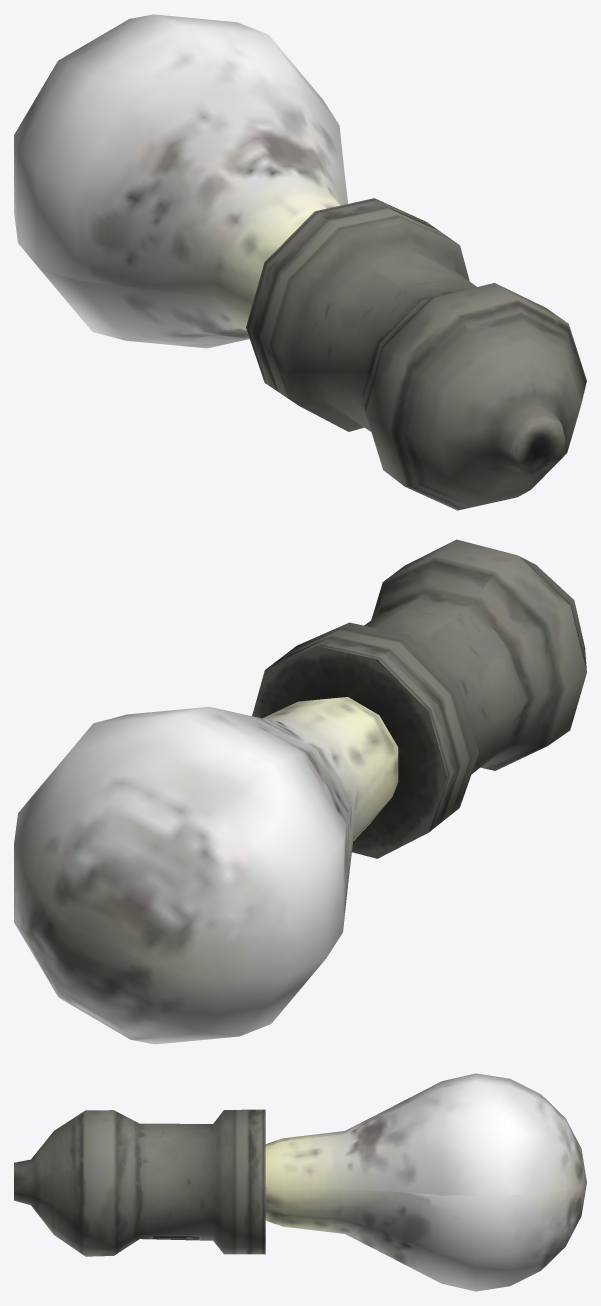
File: utility_lightbulb_bare_on_LOD0.obj
3 renders of one model, top to bottom at view 1: azimuth 30°, elevation 25°; view 2: azimuth 150°, elevation 25°; view 3: azimuth 270°, elevation 25°, orthographic. The views are drawn at different scales.
Parts seen in each view (by area): view 1: mtl_utility_lightbulb_bare_on, mtl_utility_lightbulb_bare_off; view 2: mtl_utility_lightbulb_bare_on, mtl_utility_lightbulb_bare_off; view 3: mtl_utility_lightbulb_bare_on, mtl_utility_lightbulb_bare_off.
Boxes of the visible parts, x1,y1,x2,y2 form: mtl_utility_lightbulb_bare_on: (14, 14, 347, 348); mtl_utility_lightbulb_bare_off: (246, 198, 586, 510); mtl_utility_lightbulb_bare_on: (14, 697, 398, 1044); mtl_utility_lightbulb_bare_off: (252, 539, 586, 858); mtl_utility_lightbulb_bare_on: (265, 1073, 586, 1291); mtl_utility_lightbulb_bare_off: (14, 1109, 265, 1256).
Size of the model in its own units: 8.21 by 8.63 by 22.23.
